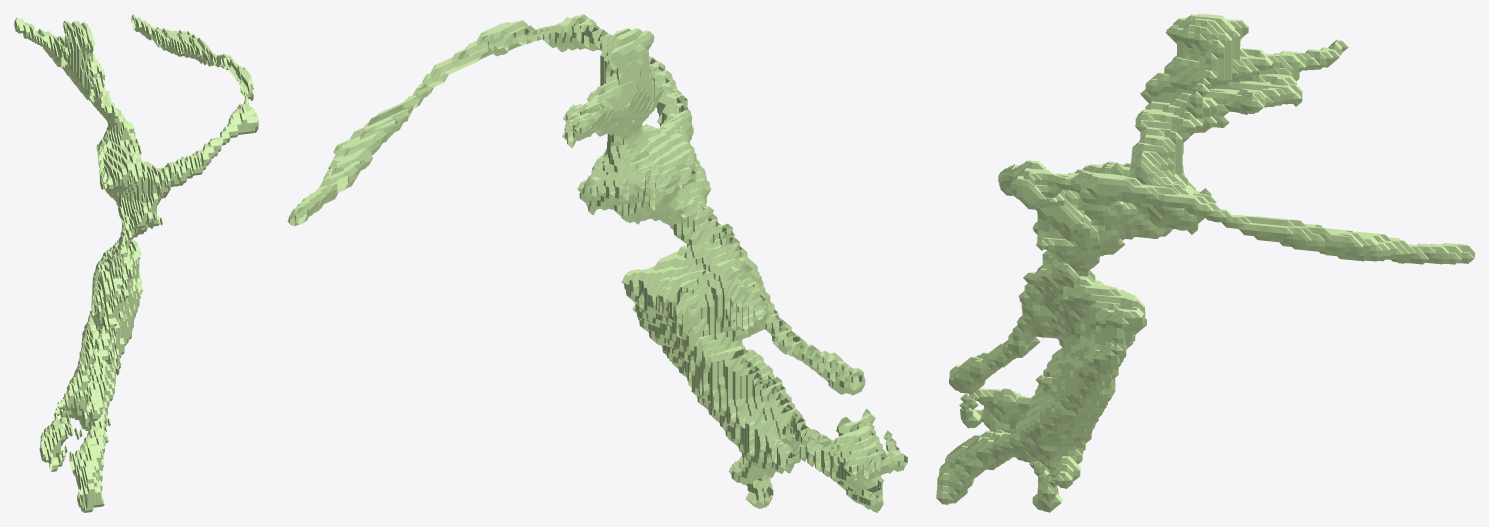
Rendered from SVV_URBR.gltf.
3 renders of one model, left to right at view 1: azimuth 30°, elevation 25°; view 2: azimuth 150°, elevation 25°; view 3: azimuth 270°, elevation 25°, orthographic. The views are drawn at different scales.
Visible parts, largest first — view 1: URBR; view 2: URBR; view 3: URBR.
Boxes of the visible parts, bbox=[...] form: URBR: bbox=[14, 14, 258, 512]; URBR: bbox=[287, 14, 907, 512]; URBR: bbox=[936, 14, 1474, 512].
Size of the model in its own units: 46459 by 63317 by 57007.
